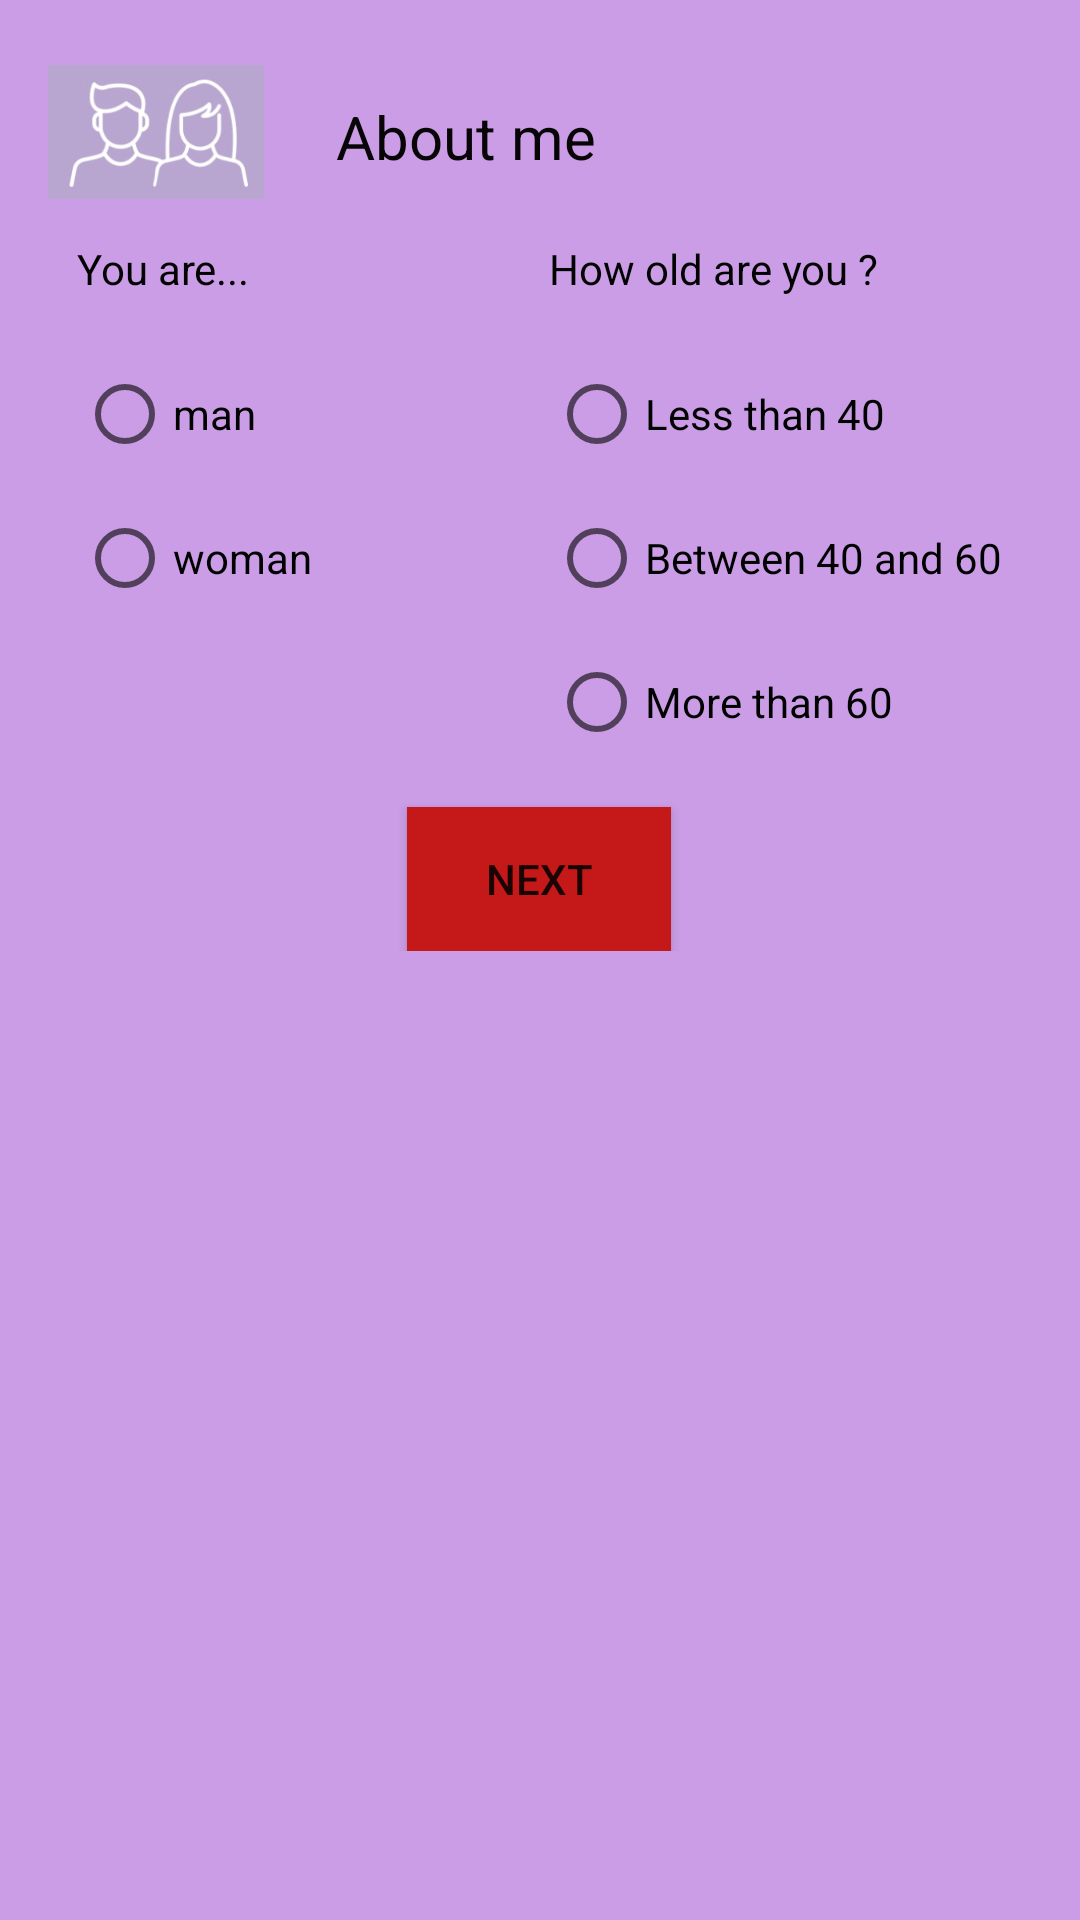

Named icons in this screenshot (1080 x 1920) and their centers, (x=x, y=y):
profil: (x=156, y=132)
